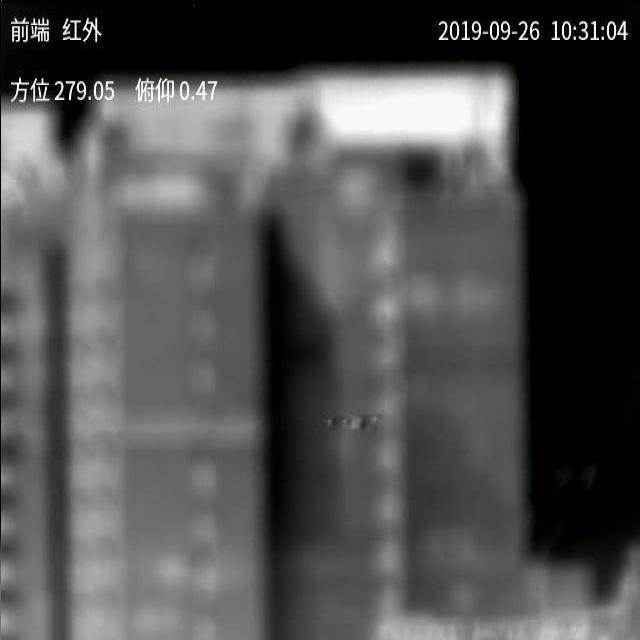drone: (321, 415, 379, 429)
